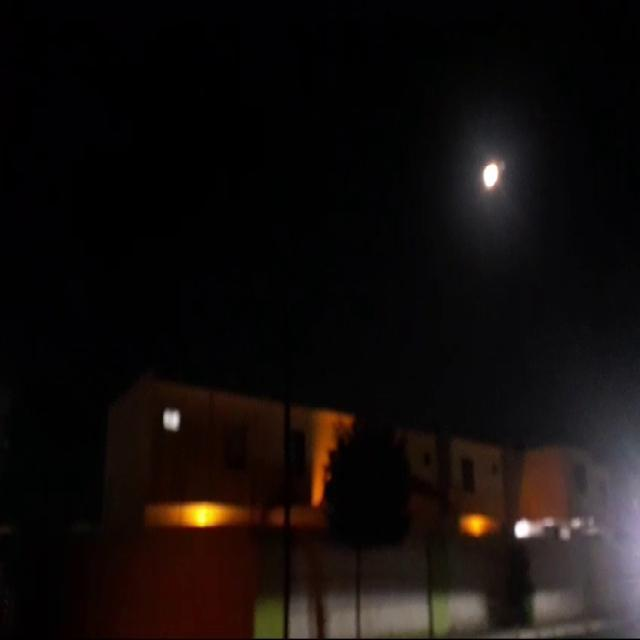moon: (479, 159, 499, 193)
